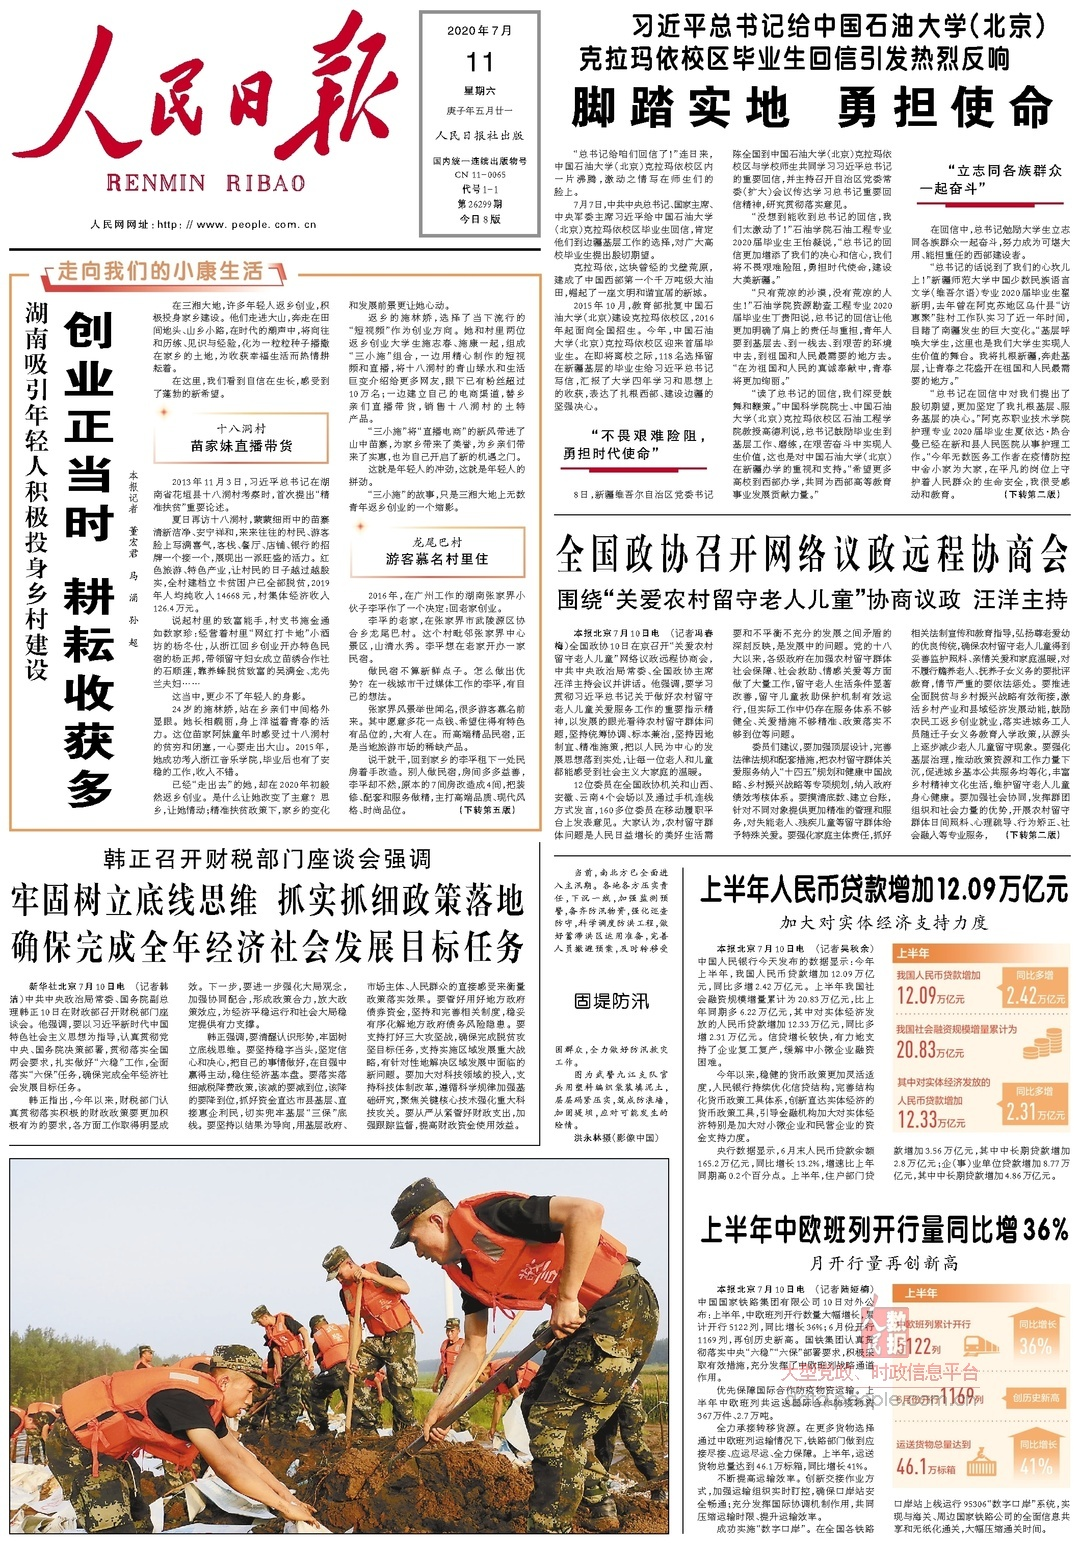pic: (6, 1156, 677, 1538)
